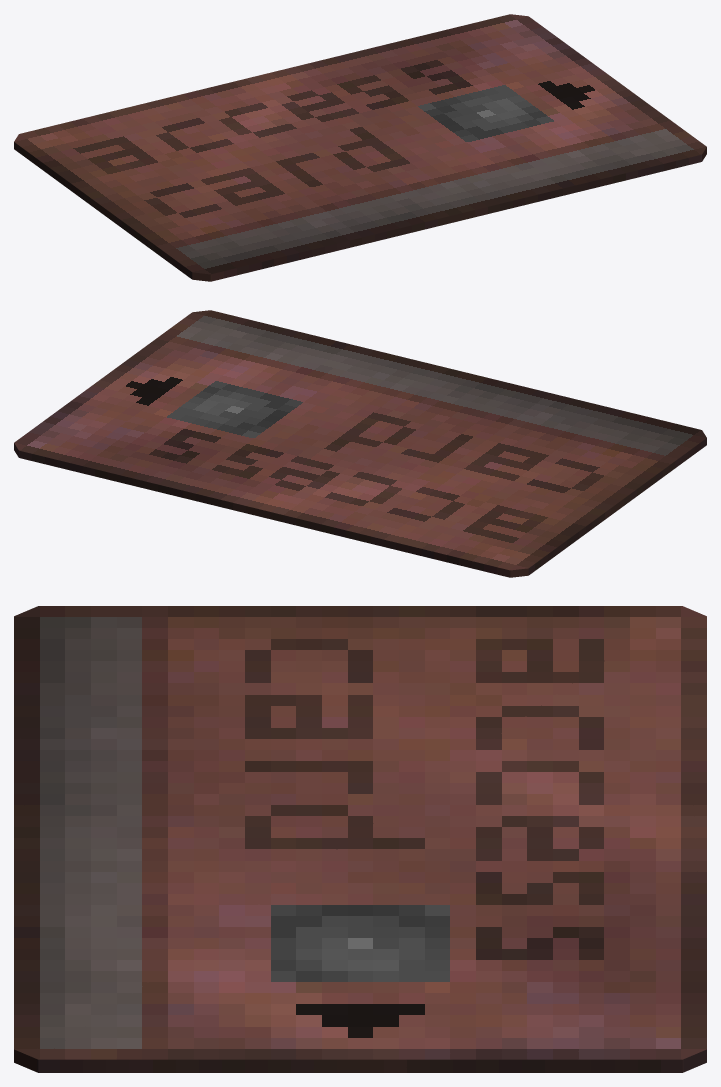
File: keycard_1_3.glb
3 renders of one model, top to bottom at view 1: azimuth 30°, elevation 25°; view 2: azimuth 150°, elevation 25°; view 3: azimuth 270°, elevation 25°, orthographic. The views are drawn at different scales.
Visible parts, largest first — view 1: keycard_1_3; view 2: keycard_1_3; view 3: keycard_1_3.
Part boxes in pixels (x1=…): keycard_1_3: x1=14, y1=14, x2=706, y2=281; keycard_1_3: x1=14, y1=310, x2=706, y2=577; keycard_1_3: x1=14, y1=606, x2=706, y2=1072.
Size of the model in its own units: 0.132 by 0.0018 by 0.0852.
Materials: 1 (1 with a texture image).
